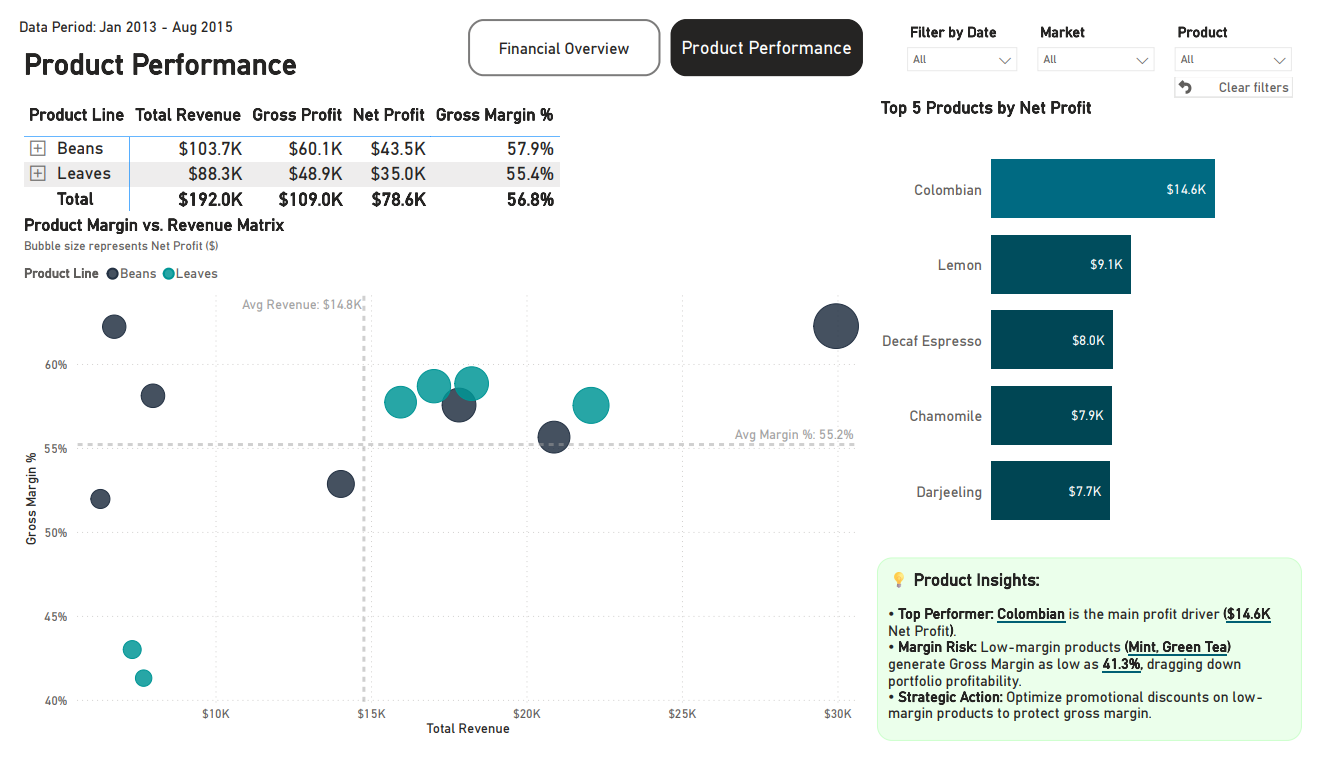

Layout of this report page (visuals, bound fields, positions):
{"tool":"powerbi","page":{"name":"Product Performance","canvas":[1280,720],"ordinal":1},"visuals":[{"type":"pivotTable","fields":{"Values":["_Measures.Total Revenue","_Measures.Gross Profit","_Measures.Net Profit","_Measures.Gross Margin %"],"Rows":["Dim_Product.Product_line","Dim_Product.Product_type"]},"box":[0,78.6,547.1,117.1],"z":0},{"type":"scatterChart","title":"Product Margin vs. Revenue Matrix","fields":{"Category":["Coffee_Chain_Sales.Product"],"X":["_Measures.Total Revenue"],"Y":["_Measures.Gross Margin %"],"Series":["Dim_Product.Product_line"],"Size":["_Measures.Net Profit"]},"box":[0,195,856.7,525],"z":1000},{"type":"barChart","title":"Top 5 Products by Net Profit","fields":{"Category":["Coffee_Chain_Sales.Product"],"Y":["_Measures.Net Profit"]},"box":[855,78.3,425,458.3],"z":2000},{"type":"textbox","box":[855.7,537.1,424.3,182.9],"z":3000},{"type":"textbox","box":[0,22.9,425.4,43.9],"z":4000},{"type":"actionButton","box":[1153.1,56.9,117.7,21.5],"z":5000},{"type":"slicer","fields":{"Values":["Calendar.Year","Calendar.Month"]},"box":[875.7,0,130,56.9],"z":6000},{"type":"slicer","fields":{"Values":["Dim_Geography.Market"]},"box":[1005.7,0,137.1,57.1],"z":7000},{"type":"pageNavigator","box":[448.3,0,395,56.7],"z":8000},{"type":"shape","box":[0,0,223.6,22.7],"z":9000},{"type":"slicer","fields":{"Values":["Fact_Sales.Product"]},"box":[1143,0,137.1,57.1],"z":10000}]}

Visuals, with their boxes in screenshot pixels (x1, y1, x2, y2), scaled from the page's 1280x720 canvas onto the 1321x760 screenshot:
pivotTable - _Measures.Total Revenue x _Measures.Gross Profit: {"left": 0, "top": 83, "right": 565, "bottom": 207}
"Product Margin vs. Revenue Matrix" scatterChart: {"left": 0, "top": 206, "right": 884, "bottom": 759}
"Top 5 Products by Net Profit" barChart: {"left": 882, "top": 83, "right": 1320, "bottom": 566}
textbox: {"left": 883, "top": 567, "right": 1320, "bottom": 759}
textbox: {"left": 0, "top": 24, "right": 439, "bottom": 71}
actionButton: {"left": 1190, "top": 60, "right": 1312, "bottom": 83}
slicer - Calendar.Year x Calendar.Month: {"left": 904, "top": 0, "right": 1038, "bottom": 60}
slicer - Dim_Geography.Market: {"left": 1038, "top": 0, "right": 1179, "bottom": 60}
pageNavigator: {"left": 463, "top": 0, "right": 870, "bottom": 60}
shape: {"left": 0, "top": 0, "right": 231, "bottom": 24}
slicer - Fact_Sales.Product: {"left": 1180, "top": 0, "right": 1320, "bottom": 60}
